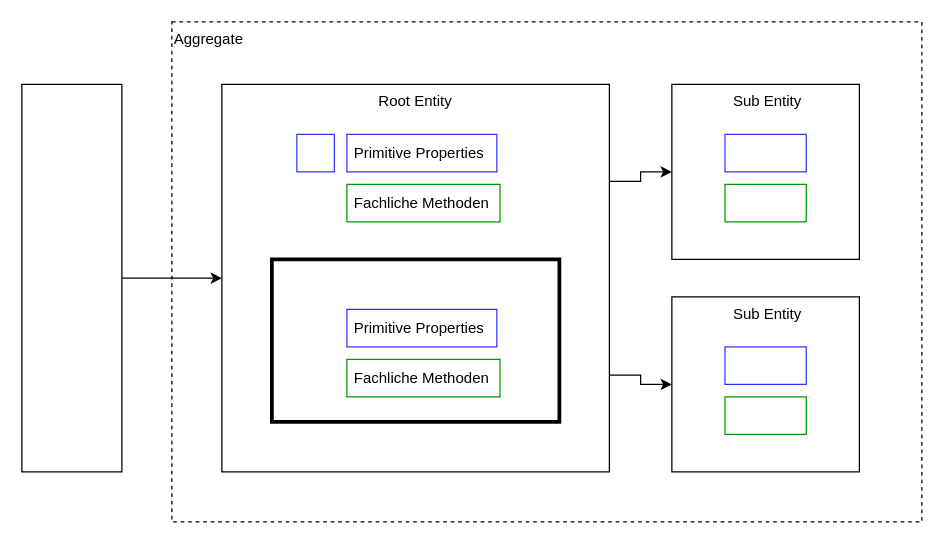
Image size: 944x544. Some labels were removed from this diagram. Here are the shapes that lost their labels. From the top down, the box of each, then its label:
(296, 133, 334, 172): ID
(21, 83, 122, 472): Repository
(269, 257, 561, 423): Value Object
